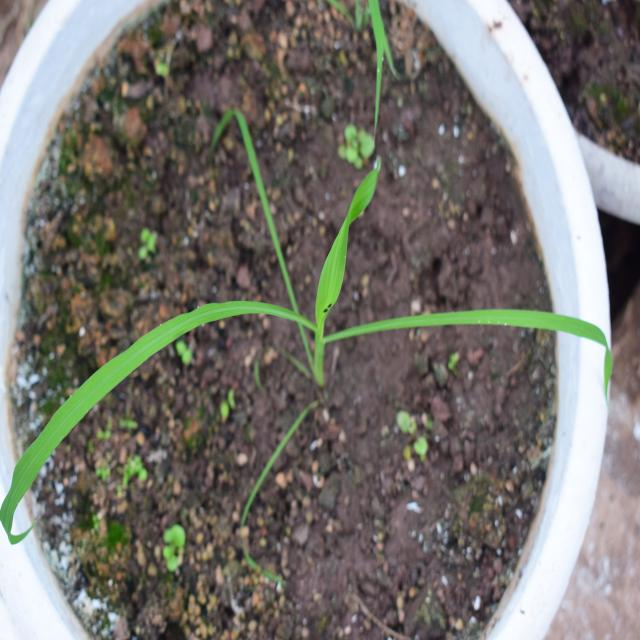barnyard_grass: (6, 155, 614, 477)
